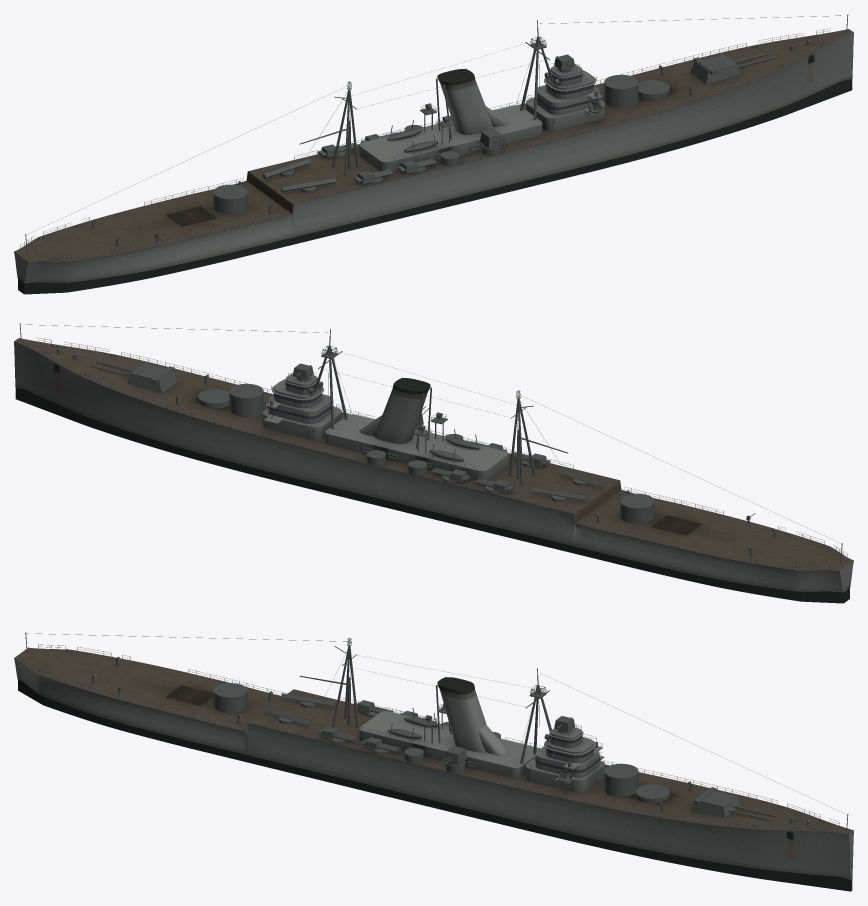
Rendered from mogami-ca.glb.
3 renders of one model, top to bottom at view 1: azimuth 30°, elevation 25°; view 2: azimuth 150°, elevation 25°; view 3: azimuth 330°, elevation 25°, orthographic.
Parts seen in each view (by area): view 1: Hull, Skirt, Kit_turret-8in-twin; view 2: Hull, Skirt, Kit_turret-8in-twin; view 3: Hull, Skirt, Kit_turret-8in-twin.
Boxes of the visible parts, x1,y1,x2,y2 form: Hull: (14,14,853,283); Skirt: (18,79,852,294); Kit_turret-8in-twin: (690,54,740,84); Hull: (14,323,853,592); Skirt: (15,388,849,603); Kit_turret-8in-twin: (127,363,177,393); Hull: (14,632,853,880); Skirt: (18,679,852,891); Kit_turret-8in-twin: (690,787,740,817).
Size of the model in its own units: 201 by 33.78 by 24.18.
Materials: 4 (1 with a texture image).
